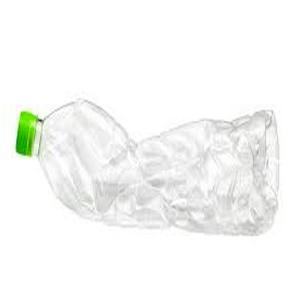Plastic: (12, 96, 276, 239)
